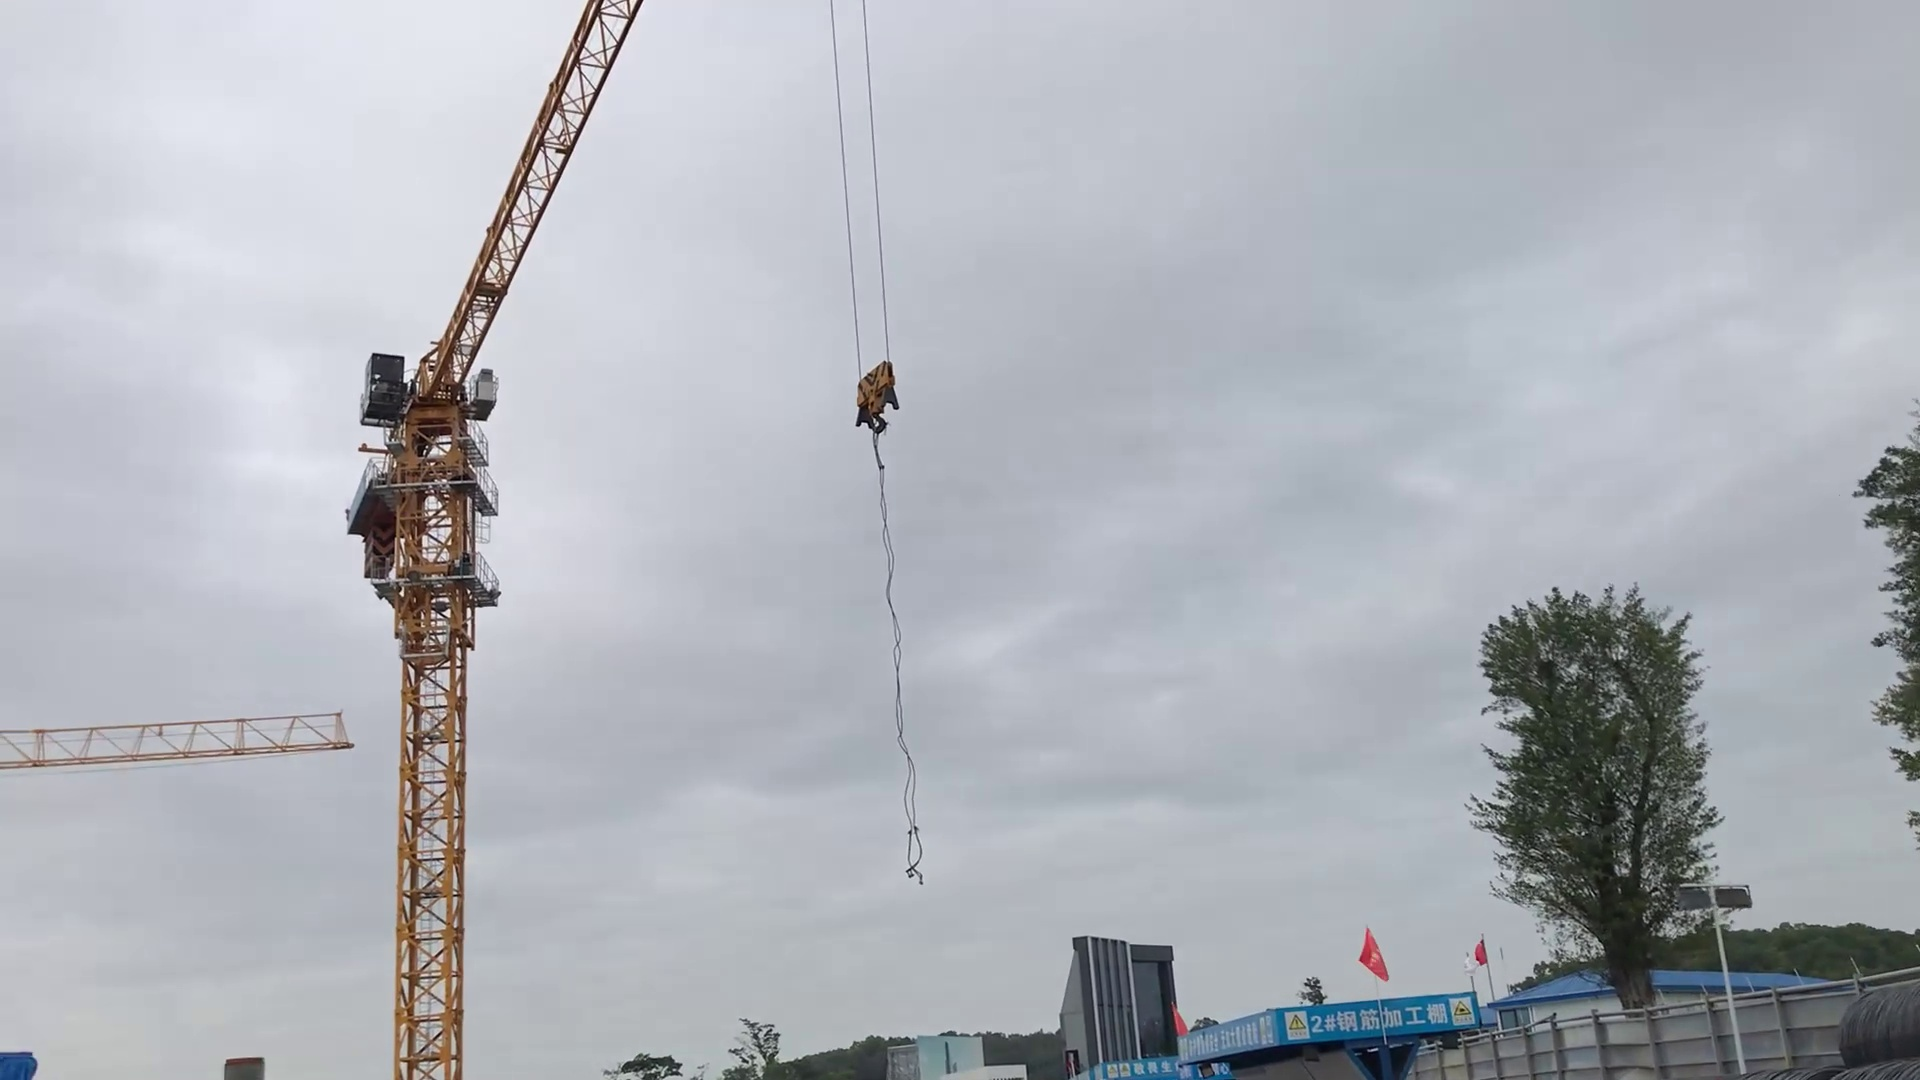hook: (851, 356, 906, 448)
